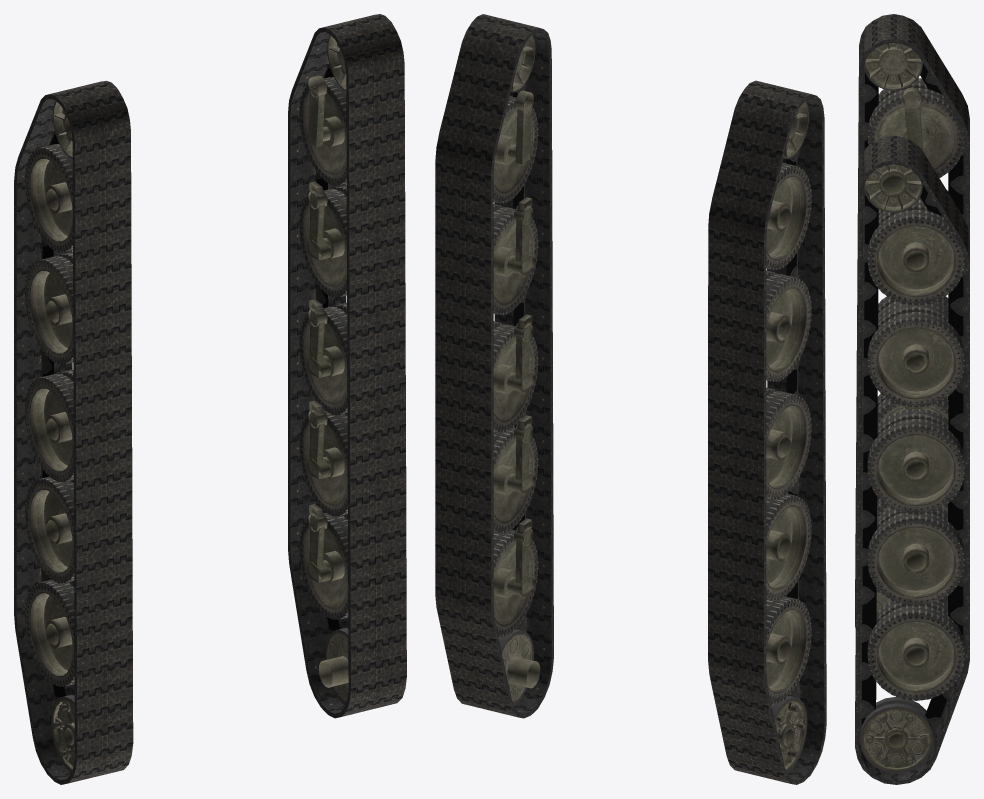
File: Chassis.glb
3 views of the same model, side by side, from view 1: azimuth 30°, elevation 25°; view 2: azimuth 150°, elevation 25°; view 3: azimuth 270°, elevation 25° (orthographic). The views are drawn at different scales.
Parts seen in each view (by area): view 1: set_1_group_0, set_0_group_0, set_3_group_0, set_2_group_0; view 2: set_1_group_0, set_0_group_0, set_3_group_0, set_2_group_0; view 3: set_3_group_0, set_0_group_0, set_2_group_0, set_1_group_0.
Part boxes in pixels (box(x1,y1,x2,y2)): set_1_group_0: box(14, 80, 133, 784); set_0_group_0: box(288, 14, 406, 718); set_3_group_0: box(299, 34, 348, 705); set_2_group_0: box(25, 101, 74, 772); set_1_group_0: box(708, 80, 826, 784); set_0_group_0: box(435, 14, 553, 718); set_3_group_0: box(493, 35, 540, 706); set_2_group_0: box(766, 101, 811, 773); set_3_group_0: box(859, 164, 964, 773); set_0_group_0: box(855, 135, 969, 784); set_2_group_0: box(864, 43, 964, 613); set_1_group_0: box(855, 14, 969, 627).
Size of the model in its own units: 2.95 by 5.86 by 0.9779.
Materials: 4 (4 with a texture image).
